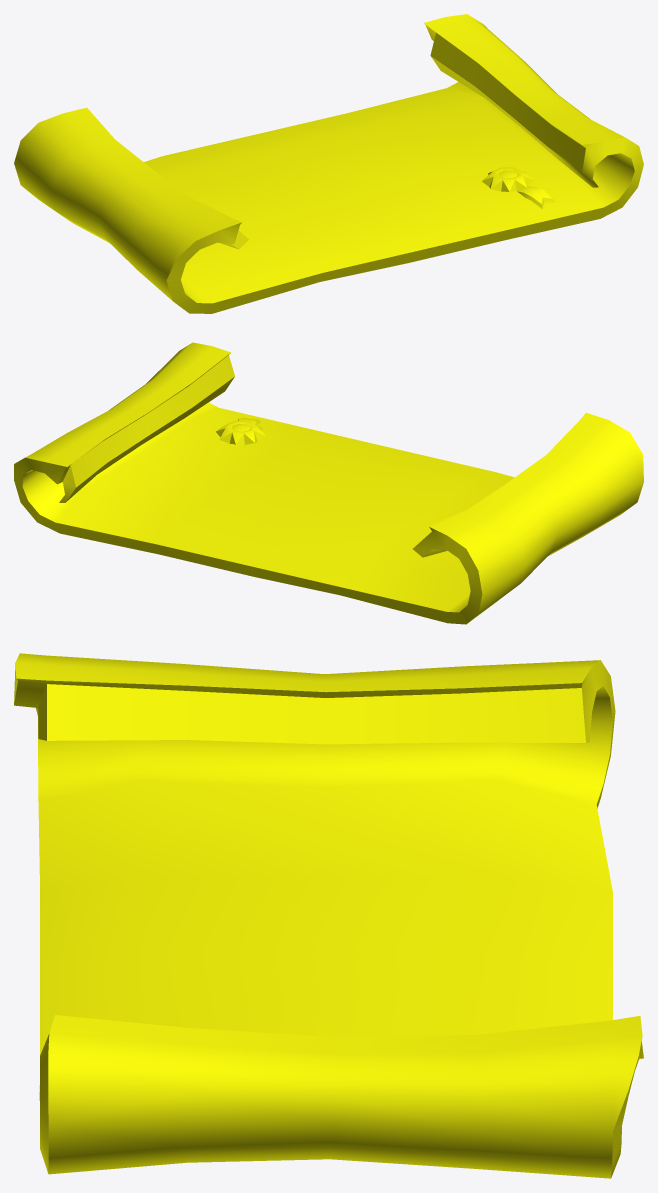
The model's file is kaykit-map.glb.
3 views of the same model, one above another, from view 1: azimuth 30°, elevation 25°; view 2: azimuth 150°, elevation 25°; view 3: azimuth 270°, elevation 25° (orthographic). The views are drawn at different scales.
Visible parts, largest first — view 1: map; view 2: map; view 3: map.
Boxes of the visible parts, bbox=[...] form: map: bbox=[14, 14, 643, 313]; map: bbox=[14, 342, 643, 624]; map: bbox=[14, 653, 643, 1178].
Bounding box in the file's own units: 1.94 × 0.3548 × 1.22.
